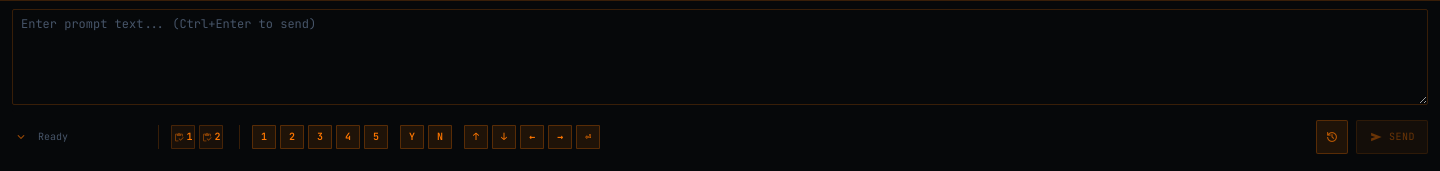
Test: <ComposerInput> quick-send buttons › hides quick-send buttons when the textarea has content
In the text box with placeholder "Enter prompt text... (Ctrl+Enter to send)": {"x": 720, "y": 57} [12,9,1428,105], type "drafting a prompt"
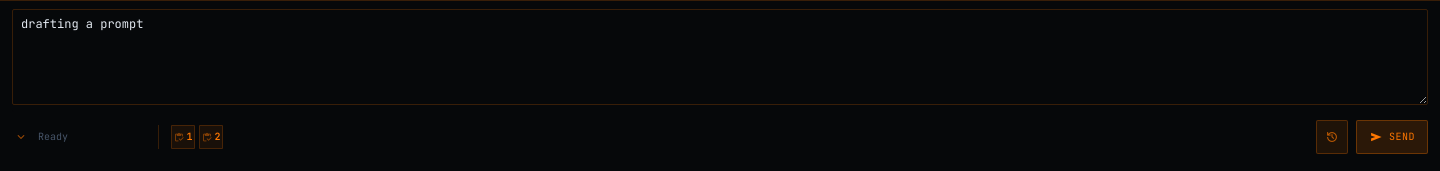
Now the button with test id "quick-send-1" is gone
Now the button with test id "quick-send-y" is gone
